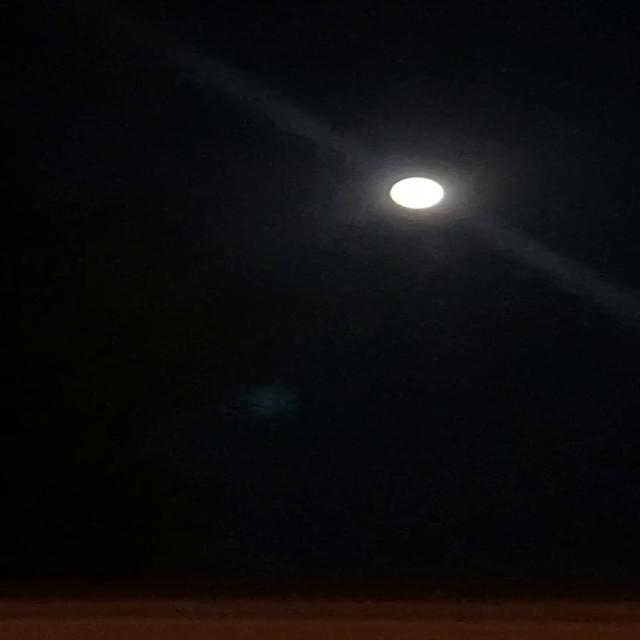moon: (384, 172, 456, 211)
